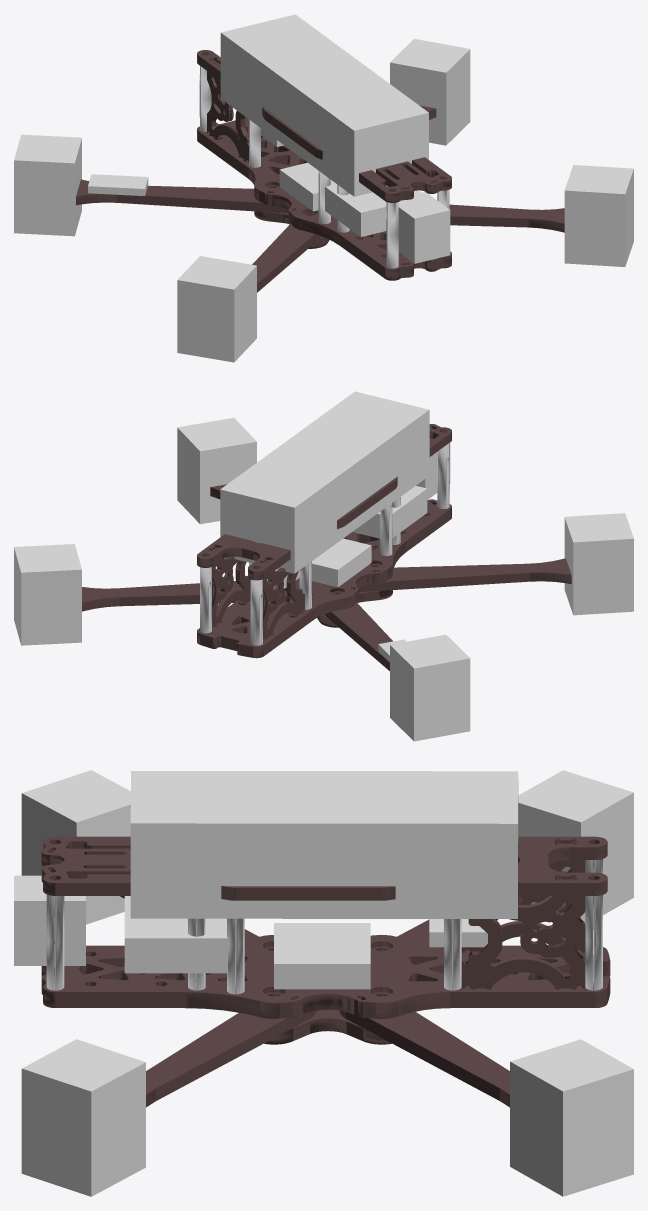
Rendered from Body1_009.glb.
The picture shows the model from 3 angles, top to bottom: view 1: azimuth 30°, elevation 25°; view 2: azimuth 150°, elevation 25°; view 3: azimuth 270°, elevation 25°; orthographic projection. The views are drawn at different scales.
Parts seen in each view (by area): view 1: Body1.009, Battery_Bounds, Motor_FR_Bounds, Motor_FL_Bounds, Motor_RR_Bounds, Motor_RL_Bounds, Camera_Bounds, FlightController_Bounds, GPS_Bounds, ESC_RR_Bounds; view 2: Body1.009, Battery_Bounds, Motor_RR_Bounds, Motor_FR_Bounds, Motor_RL_Bounds, Motor_FL_Bounds, GPS_Bounds, FlightController_Bounds, Camera_Bounds; view 3: Body1.009, Battery_Bounds, Motor_FL_Bounds, Motor_RL_Bounds, Motor_RR_Bounds, Motor_FR_Bounds, GPS_Bounds, FlightController_Bounds, Camera_Bounds, Receiver_Bounds.
Part boxes in pixels (bbox=[...]): Body1.009: bbox=[76, 50, 564, 292]; Battery_Bounds: bbox=[220, 14, 428, 196]; Motor_FR_Bounds: bbox=[177, 256, 256, 362]; Motor_FL_Bounds: bbox=[564, 165, 633, 266]; Motor_RR_Bounds: bbox=[14, 134, 81, 236]; Motor_RL_Bounds: bbox=[390, 38, 470, 145]; Camera_Bounds: bbox=[398, 192, 450, 263]; FlightController_Bounds: bbox=[325, 182, 421, 236]; GPS_Bounds: bbox=[279, 162, 333, 211]; ESC_RR_Bounds: bbox=[88, 174, 148, 196]; Body1.009: bbox=[82, 424, 571, 670]; Battery_Bounds: bbox=[220, 391, 429, 573]; Motor_RR_Bounds: bbox=[390, 634, 470, 741]; Motor_FR_Bounds: bbox=[564, 513, 633, 615]; Motor_RL_Bounds: bbox=[14, 544, 81, 645]; Motor_FL_Bounds: bbox=[177, 417, 256, 524]; GPS_Bounds: bbox=[312, 538, 371, 587]; FlightController_Bounds: bbox=[352, 486, 427, 538]; Camera_Bounds: bbox=[416, 442, 450, 499]; Body1.009: bbox=[41, 836, 610, 1107]; Battery_Bounds: bbox=[130, 771, 518, 918]; Motor_FL_Bounds: bbox=[21, 1039, 145, 1196]; Motor_RL_Bounds: bbox=[510, 1039, 633, 1196]; Motor_RR_Bounds: bbox=[518, 770, 633, 923]; Motor_FR_Bounds: bbox=[21, 770, 130, 924]; GPS_Bounds: bbox=[274, 923, 370, 989]; FlightController_Bounds: bbox=[124, 896, 227, 973]; Camera_Bounds: bbox=[14, 875, 85, 965]; Receiver_Bounds: bbox=[429, 919, 487, 947].
Bounding box in the file's own units: 0.2752 × 0.0953 × 0.2242.
